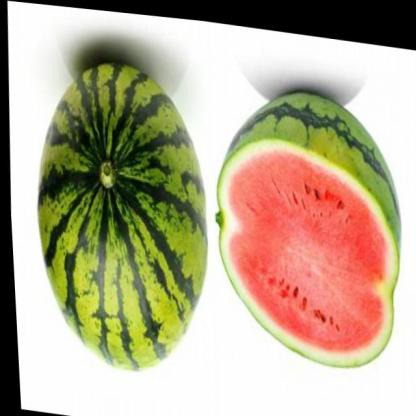watermelon: (23, 48, 217, 379), (201, 72, 411, 370)
